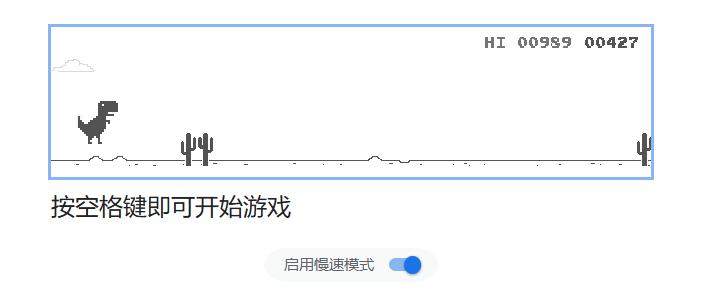cactus: (179, 131, 214, 167), (636, 132, 651, 167)
dino: (74, 99, 118, 145)
